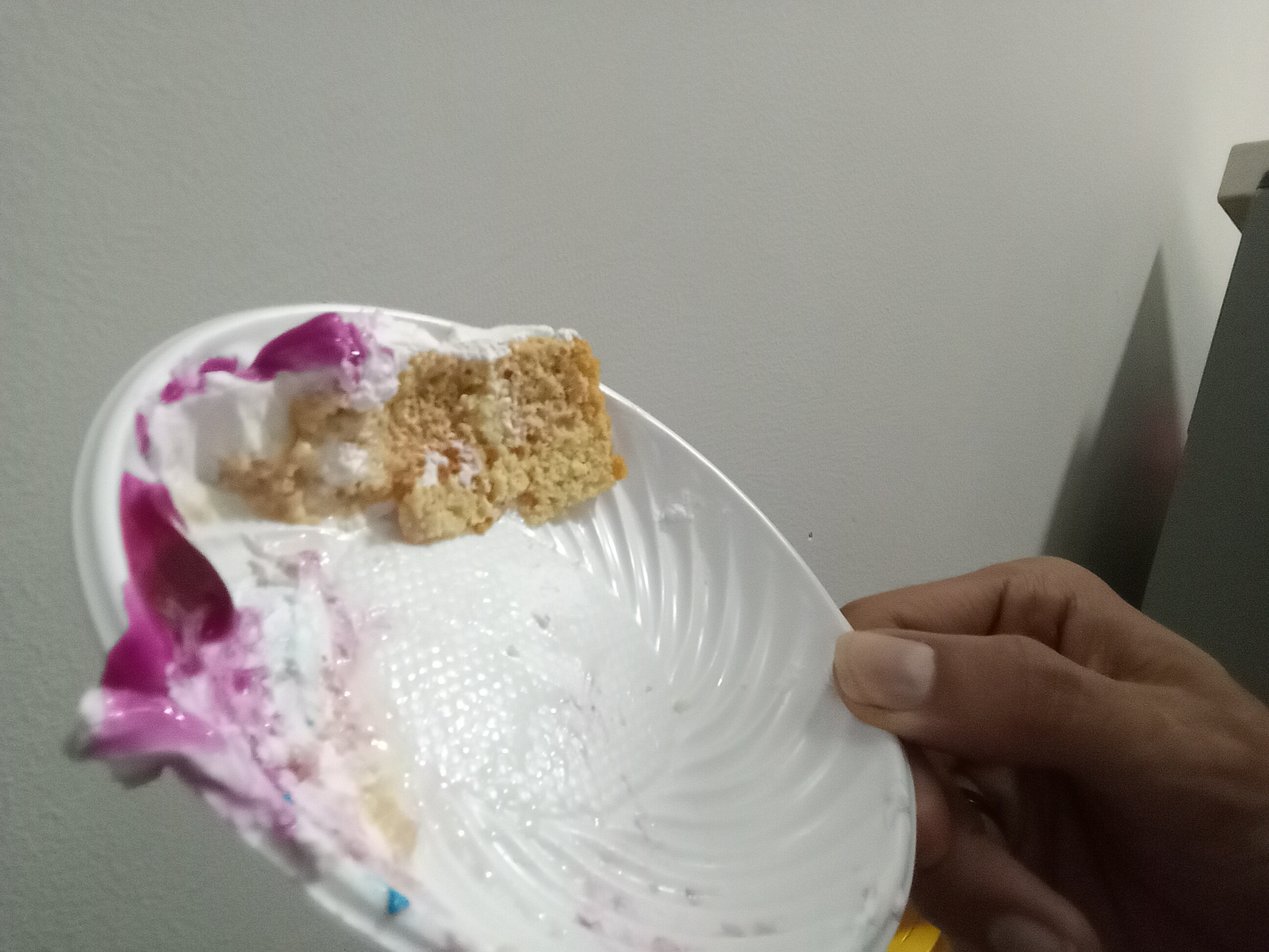Ordinario: (72, 303, 921, 952)
